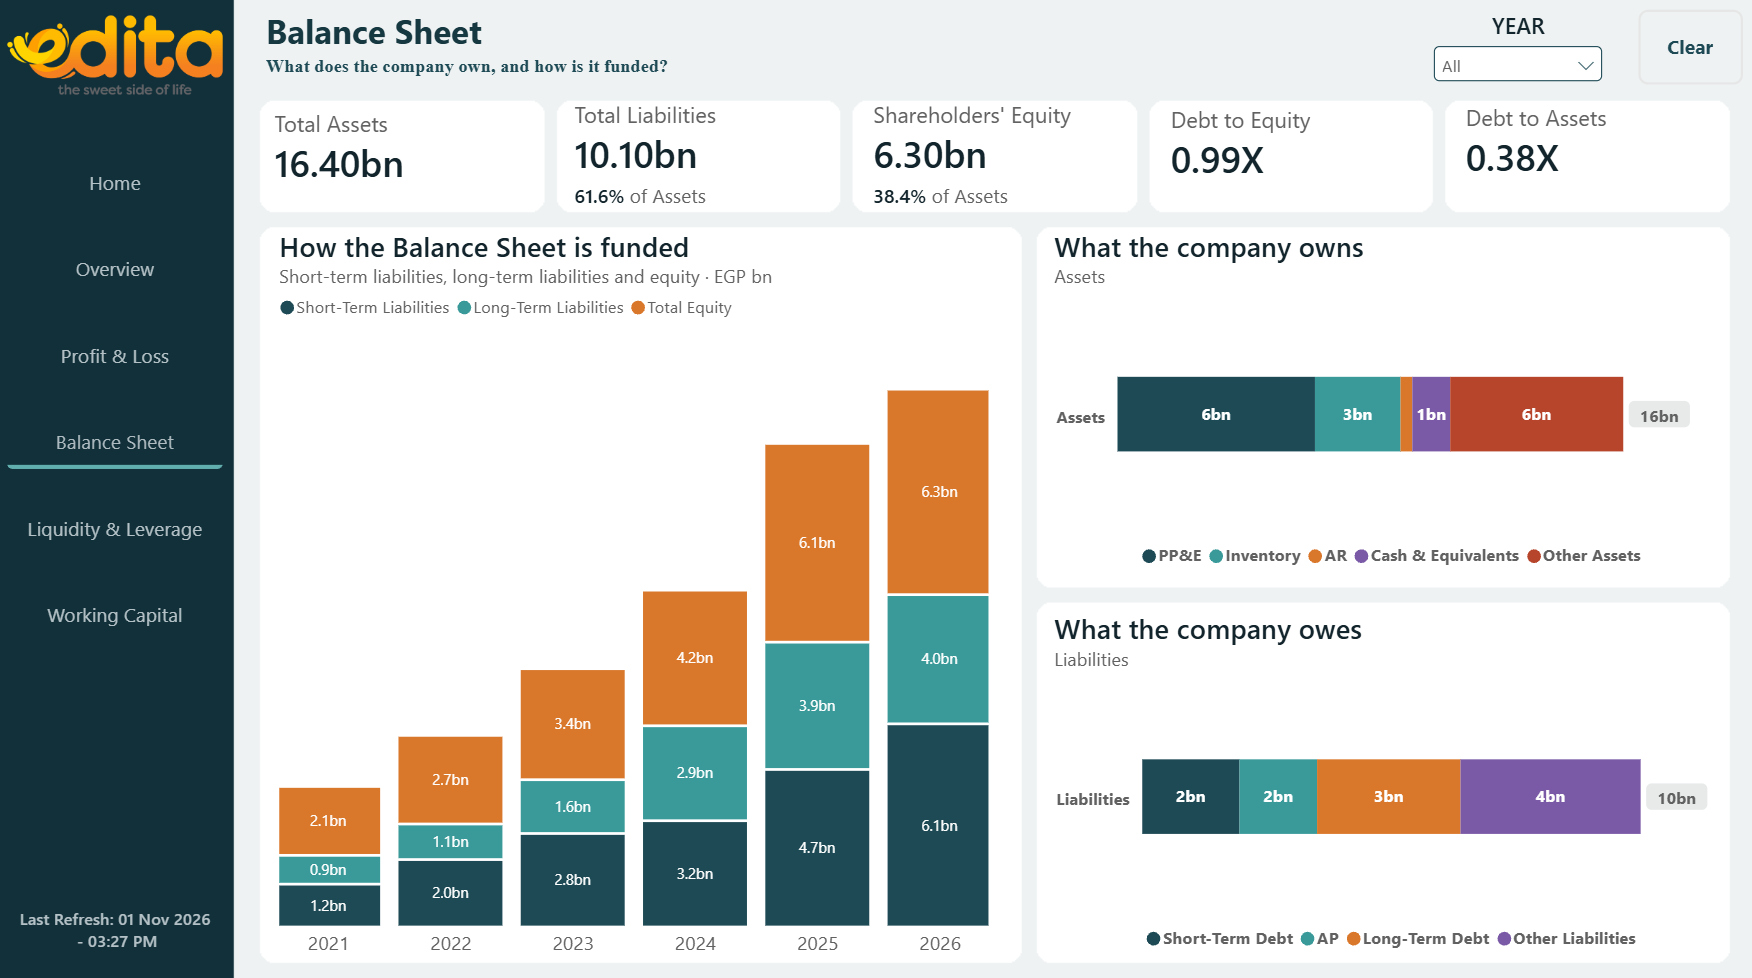

This screenshot's page, from the dashboard's own definition file:
{"tool":"powerbi","page":{"name":"Balance Sheet","canvas":[1280,720],"ordinal":3},"visuals":[{"type":"textbox","box":[196.3,9.1,196.3,33.5],"z":0},{"type":"textbox","box":[196.3,42.6,359.1,22.8],"z":1000},{"type":"card","fields":{"Values":["Measure_List.Last Refresh Display"]},"box":[0,640.6,173.3,79.3],"z":2000},{"type":"cardVisual","fields":{"Data":["Measure_List.Total Assets"]},"box":[194.8,74.6,156.7,79.1],"z":4000},{"type":"cardVisual","fields":{"Data":["Measure_List.Total Liabilities"]},"box":[412.4,76.1,206.9,108],"z":5000},{"type":"cardVisual","fields":{"Data":["Measure_List.Total Equity"]},"box":[630,76.1,196.3,108],"z":6000},{"type":"cardVisual","fields":{"Data":["Measure_List.Debt to Equity"]},"box":[846,71.5,141.5,79.1],"z":7000},{"type":"cardVisual","fields":{"Data":["Measure_List.Debt to Assets"]},"box":[1060.6,74.6,156.7,71.5],"z":8000},{"type":"columnChart","title":"How the Balance Sheet is funded","fields":{"Category":["Dim_Calendar.Year"],"Y":["Measure_List.Short-Term Liabilities","Measure_List.Long-Term Liabilities","Measure_List.Total Equity"]},"box":[190.2,153.7,547.8,566.1],"z":9000},{"type":"barChart","title":"What the company owns","fields":{"Category":["Assets Axis.Label"],"Y":["Measure_List.PP&E","Measure_List.Inventory","Measure_List.AR","Measure_List.Cash & Equivalents","Measure_List.Other Assets"]},"box":[753.2,153.7,526.5,283],"z":10000},{"type":"barChart","title":"What the company owes","fields":{"Category":["Liabilities Axis.Label"],"Y":["Measure_List.Short-Term Debt","Measure_List.AP","Measure_List.Long-Term Debt","Measure_List.Other Liabilities"]},"box":[753.2,432.2,526.5,283],"z":11000},{"type":"slicer","title":"YEAR","fields":{"Values":["Dim_Calendar.Year"]},"box":[1041.2,9.7,132.5,53.8],"z":12000},{"type":"actionButton","box":[1194.4,9.7,76,54.3],"z":13000},{"type":"pageNavigator","box":[0,108,173.3,374.6],"z":13001},{"type":"image","box":[8.6,11,157.1,63.8],"z":13002}]}

Visuals, with their boxes on the page's 1280x720 design canvas (x1, y1, x2, y2). These are canvas units, not pixel positions in the 1752x978 screenshot, which may show the page scaled, cropped or inside an application window:
textbox: select_region(196, 9, 393, 43)
textbox: select_region(196, 43, 555, 65)
card - Measure_List.Last Refresh Display: select_region(0, 641, 173, 720)
cardVisual - Measure_List.Total Assets: select_region(195, 75, 352, 154)
cardVisual - Measure_List.Total Liabilities: select_region(412, 76, 619, 184)
cardVisual - Measure_List.Total Equity: select_region(630, 76, 826, 184)
cardVisual - Measure_List.Debt to Equity: select_region(846, 72, 988, 151)
cardVisual - Measure_List.Debt to Assets: select_region(1061, 75, 1217, 146)
"How the Balance Sheet is funded" columnChart: select_region(190, 154, 738, 720)
"What the company owns" barChart: select_region(753, 154, 1280, 437)
"What the company owes" barChart: select_region(753, 432, 1280, 715)
"YEAR" slicer: select_region(1041, 10, 1174, 64)
actionButton: select_region(1194, 10, 1270, 64)
pageNavigator: select_region(0, 108, 173, 483)
image: select_region(9, 11, 166, 75)
